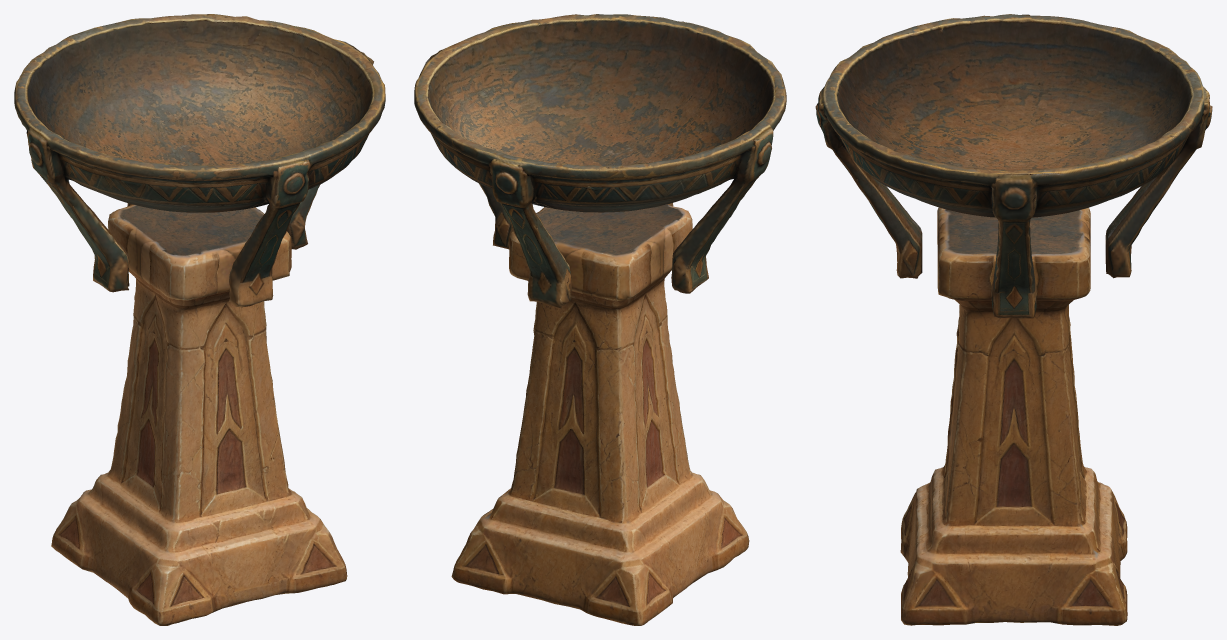
The model's file is DESERT_P08_BRAZIER.glb.
3 views of the same model, side by side, from view 1: azimuth 30°, elevation 25°; view 2: azimuth 150°, elevation 25°; view 3: azimuth 270°, elevation 25° (orthographic). The views are drawn at different scales.
Parts seen in each view (by area): view 1: texture_mapping; view 2: texture_mapping; view 3: texture_mapping.
Part boxes in pixels (x1,y1,x2,y2): texture_mapping: (14, 14, 385, 625); texture_mapping: (414, 14, 786, 625); texture_mapping: (815, 14, 1212, 625).
Bounding box in the file's own units: 0.7436 × 1 × 0.7407.
Materials: 1 (1 with a texture image).
